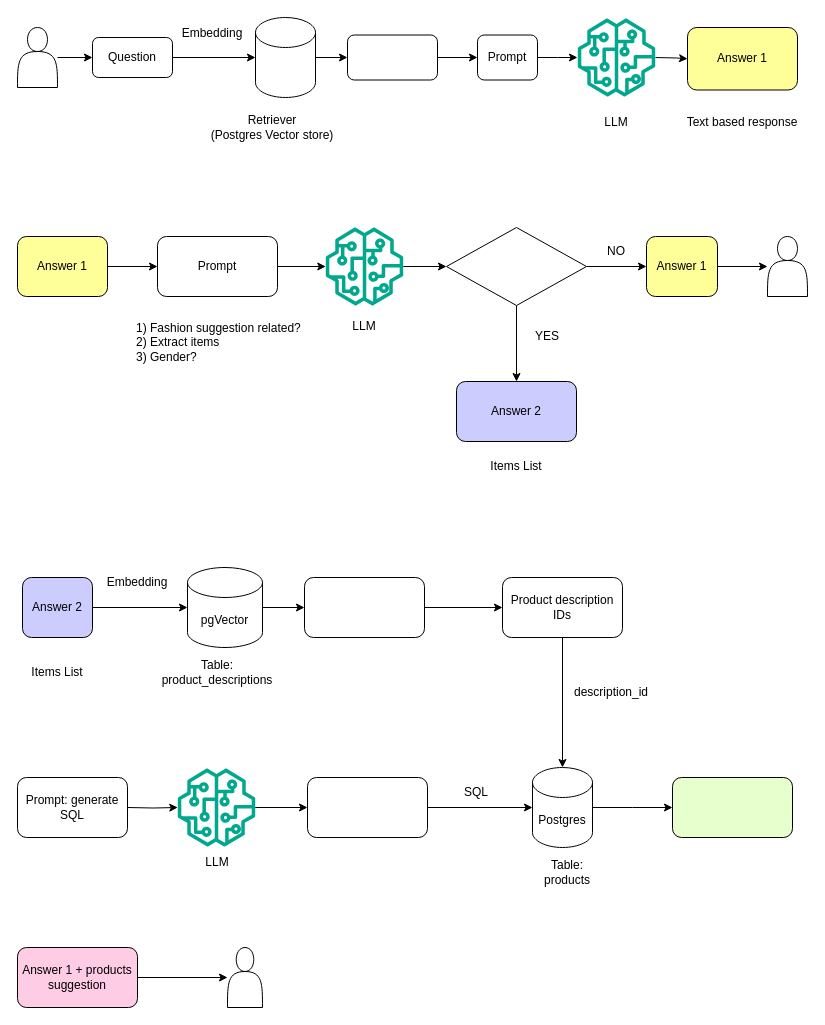
The diagram is 825 pixels wide and 1025 high, and some of its shapes have lost their labels. Each missing label, with the centre of its shape:
Fashion suggestion related?: the point at 516,266
products suggestion: the point at 732,807
Q&A Dataset: the point at 285,57
Similar descriptions: the point at 364,607
Similar Q&A: the point at 392,57
SQL Query: the point at 367,807
